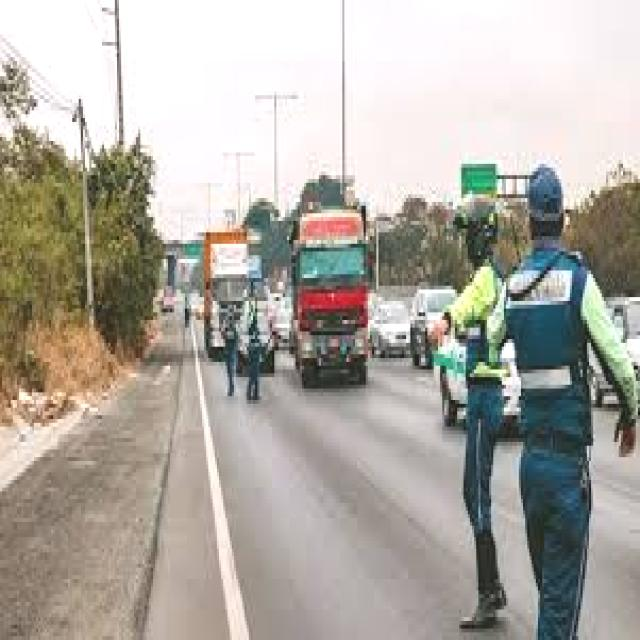TRUCK: (293, 206, 373, 388)
